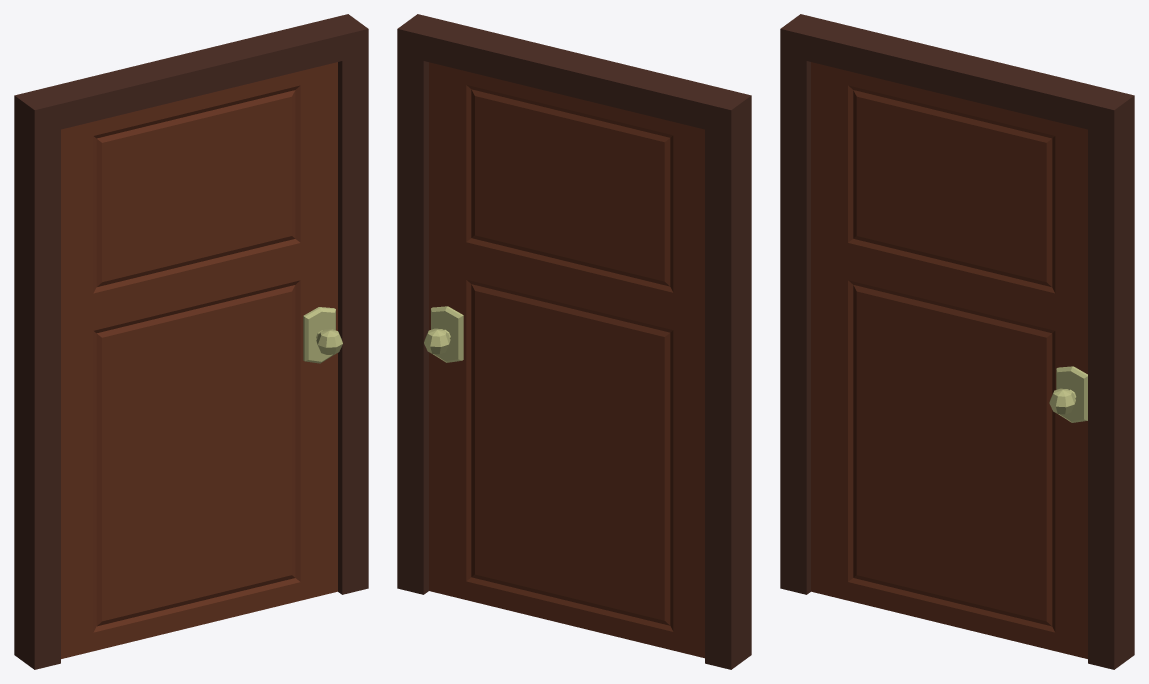
Rendered from puerta2.fbx.
The picture shows the model from 3 angles, left to right: view 1: azimuth 30°, elevation 25°; view 2: azimuth 150°, elevation 25°; view 3: azimuth 330°, elevation 25°; orthographic projection.
Parts seen in each view (by area): view 1: Puerta Barrotes.002, PuertaComun; view 2: Puerta Barrotes.002, PuertaComun; view 3: Puerta Barrotes.002, PuertaComun.
Part boxes in pixels (box(x1,y1,x2,y2)): Puerta Barrotes.002: box(61, 62, 342, 658); PuertaComun: box(14, 14, 368, 669); Puerta Barrotes.002: box(424, 62, 704, 658); PuertaComun: box(397, 14, 751, 669); Puerta Barrotes.002: box(811, 62, 1087, 658); PuertaComun: box(780, 14, 1134, 669).
Bounding box in the file's own units: 134 × 214 × 31.86.
